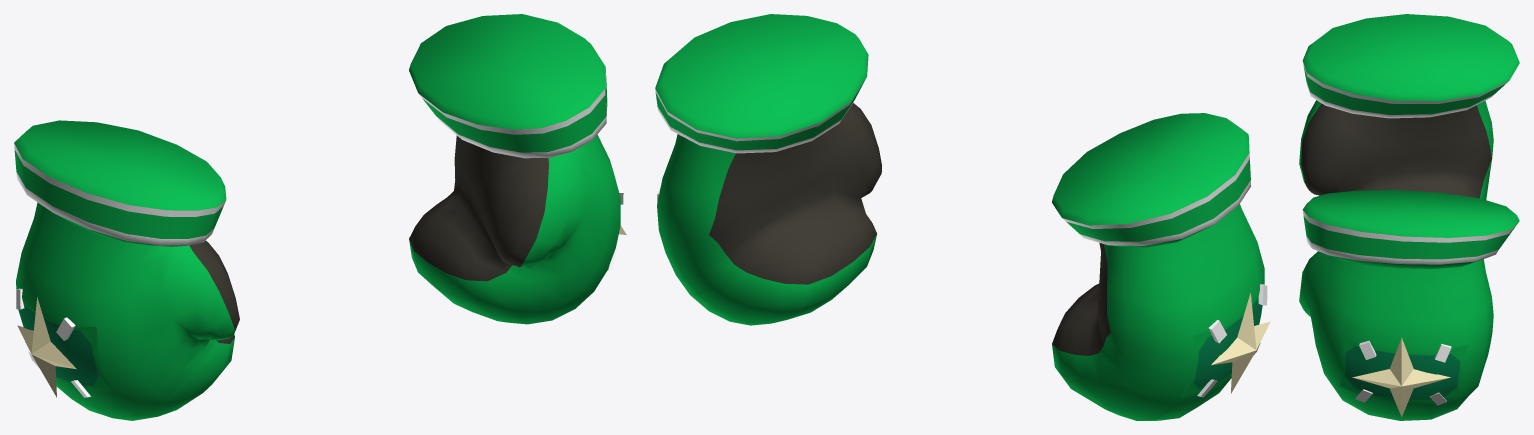
Rendered from gloves4.fbx.
3 views of the same model, side by side, from view 1: azimuth 30°, elevation 25°; view 2: azimuth 150°, elevation 25°; view 3: azimuth 270°, elevation 25° (orthographic). The views are drawn at different scales.
Visible parts, largest first — view 1: 4, 4.001; view 2: 4.001, 4; view 3: 4.001, 4.
Boxes of the visible parts, x1,y1,x2,y2 form: 4: (14, 120, 239, 420); 4.001: (409, 14, 626, 324); 4.001: (655, 14, 881, 325); 4: (1052, 113, 1270, 420); 4.001: (1299, 190, 1519, 420); 4: (1299, 14, 1519, 199).
Size of the model in its own units: 1.42 by 0.5985 by 0.5627.
